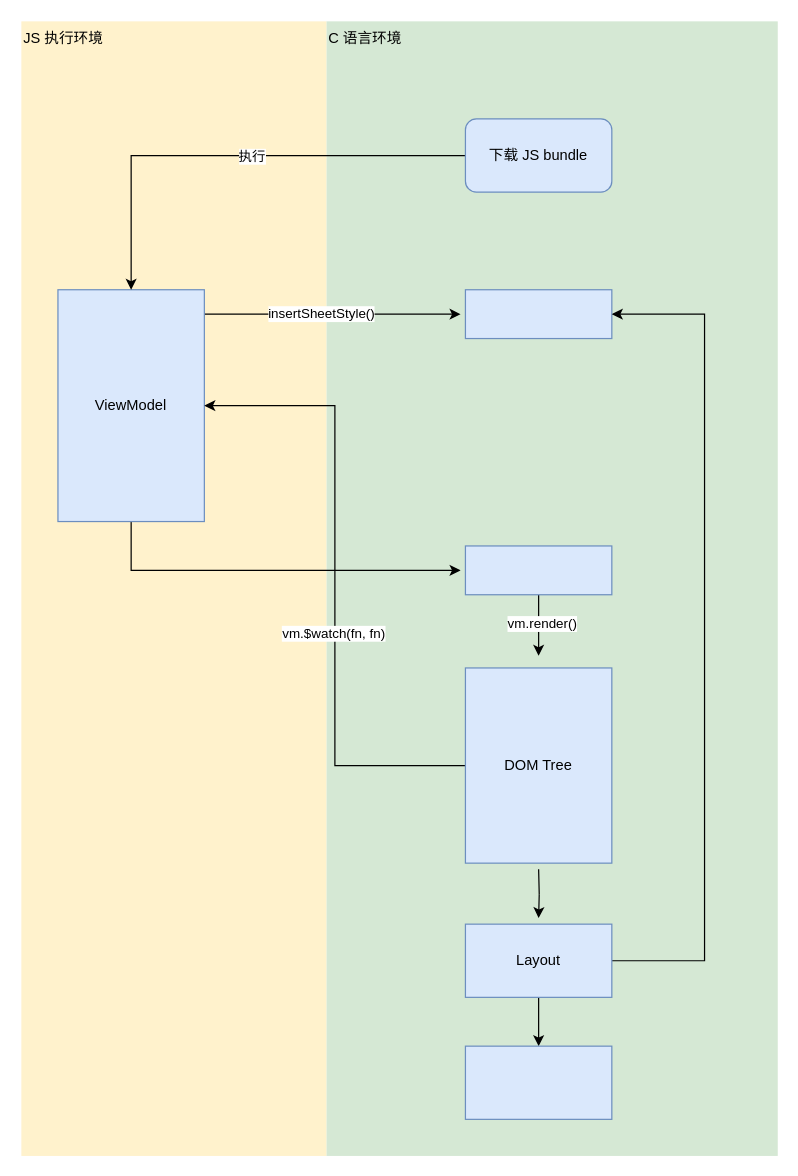
Some shapes in this 798 by 1176 pixel diagram are drawn without their labels. Here are the shapes that lost their labels. From the top down, the box of each, then its label:
(464, 289, 612, 339): styleMap
(464, 545, 612, 595): VM句柄
(464, 1045, 612, 1119): LVGL
